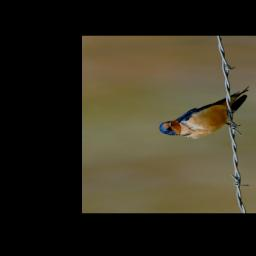Swallow: (150, 86, 256, 143)
